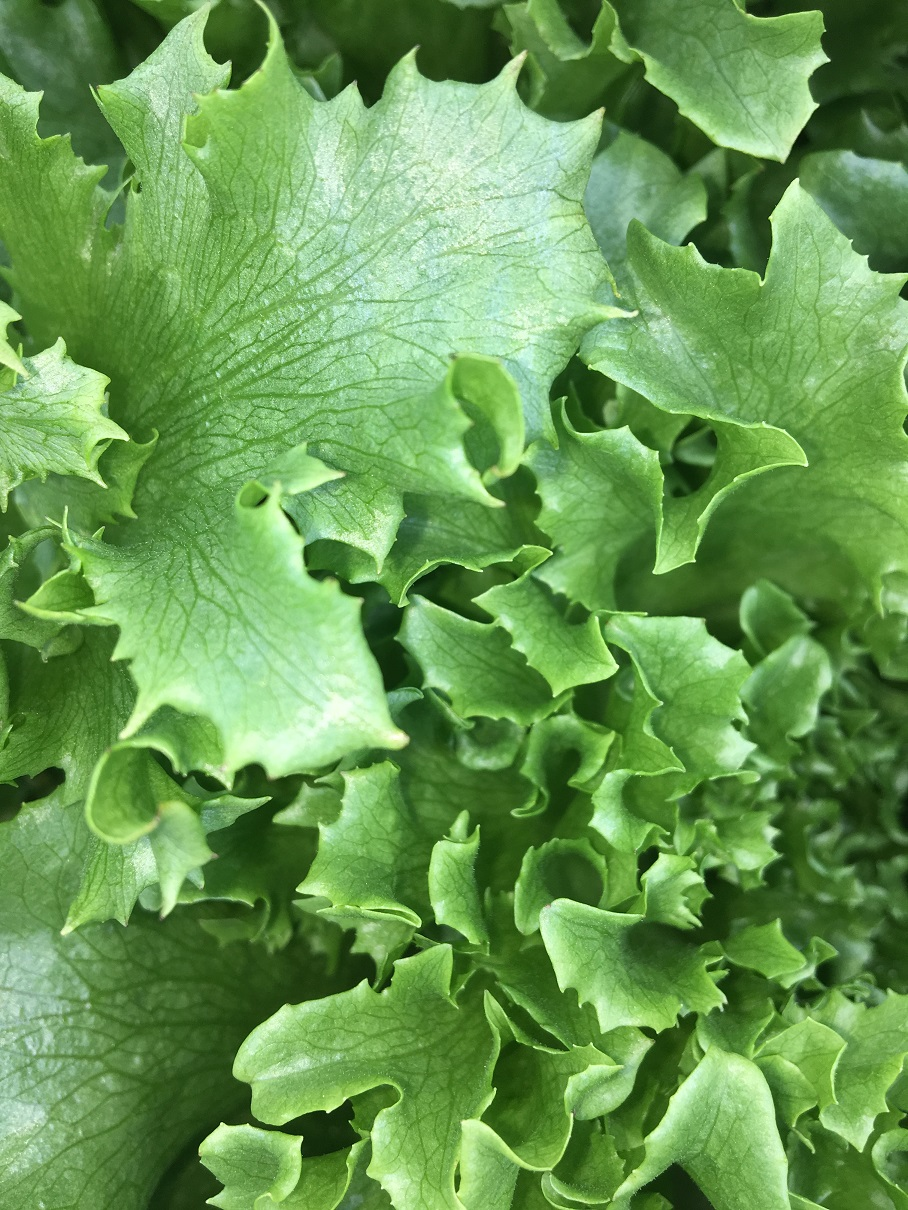tipburn: (127, 792, 187, 847), (170, 74, 226, 128)
